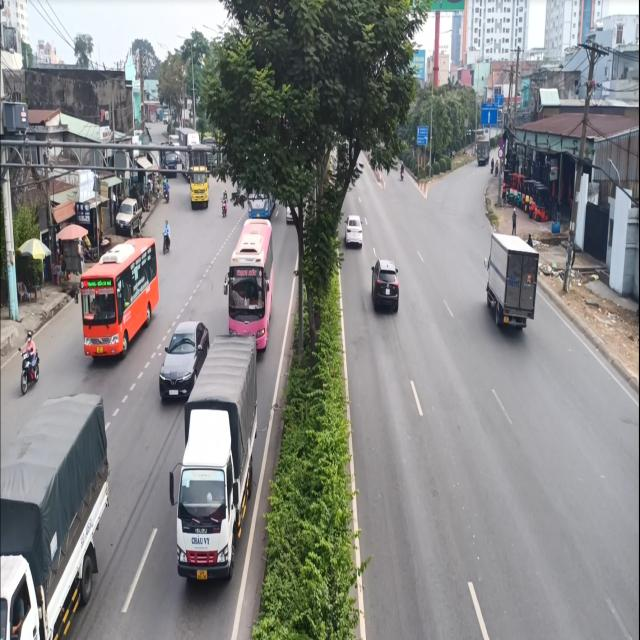bus: (80, 229, 160, 364), (221, 217, 275, 356)
car: (161, 313, 207, 396), (372, 252, 404, 321), (341, 203, 369, 254)
motor: (18, 325, 41, 397), (160, 215, 174, 261)
truck: (0, 383, 124, 639), (172, 330, 262, 582), (478, 222, 537, 342)
